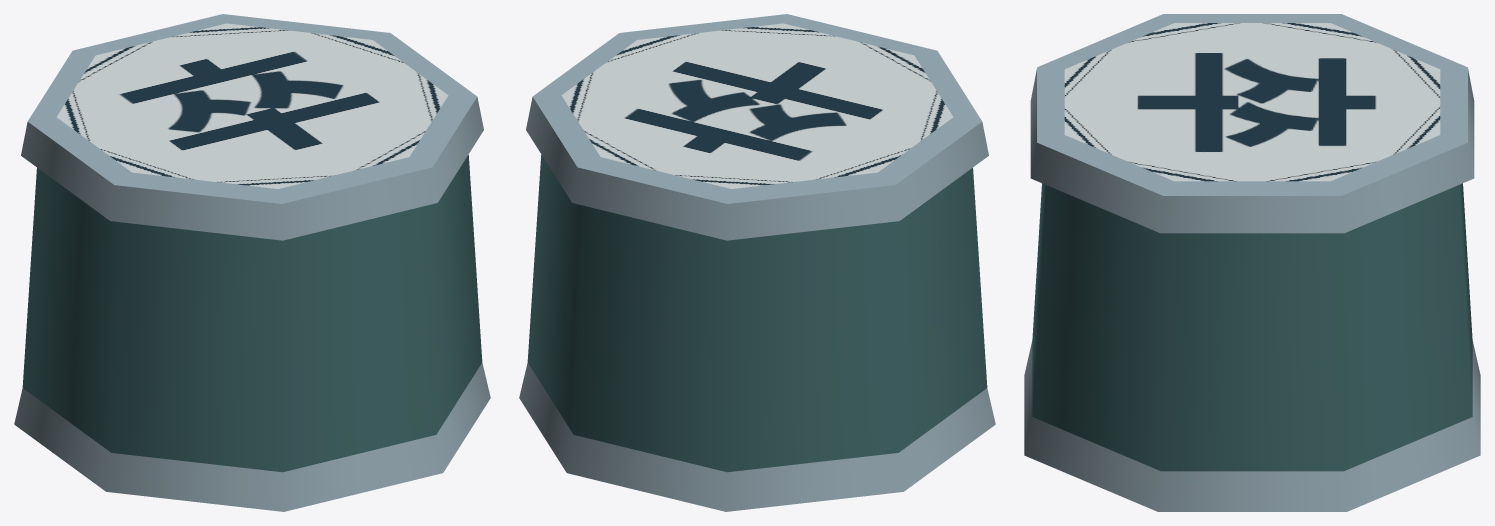
Rendered from Blue7.glb.
3 views of the same model, side by side, from view 1: azimuth 30°, elevation 25°; view 2: azimuth 150°, elevation 25°; view 3: azimuth 270°, elevation 25° (orthographic). The views are drawn at different scales.
Visible parts, largest first — view 1: Blue7; view 2: Blue7; view 3: Blue7.
Part boxes in pixels (<box>): Blue7: <box>14,14,490,511</box>; Blue7: <box>519,14,995,511</box>; Blue7: <box>1024,14,1480,511</box>.
Bounding box in the file's own units: 0.656 × 0.497 × 0.656.
3 materials, 1 textured.
